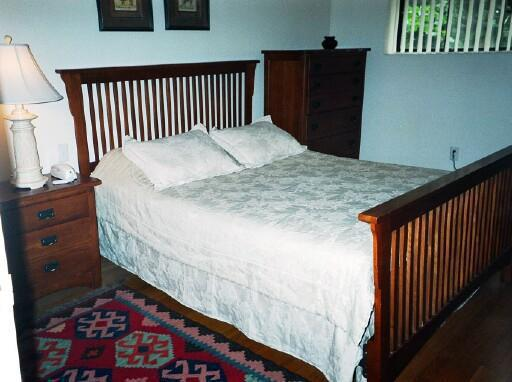Cama: (73, 73, 507, 374)
